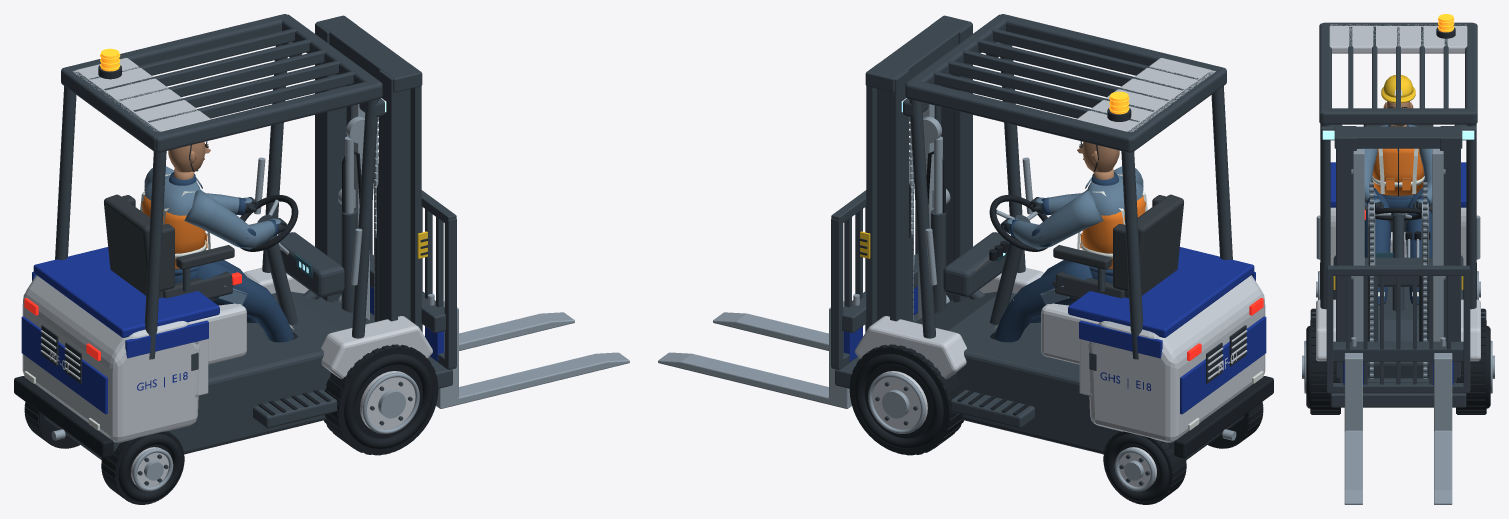
Rendered from manned_forklift.fbx.
3 views of the same model, side by side, from view 1: azimuth 30°, elevation 25°; view 2: azimuth 150°, elevation 25°; view 3: azimuth 270°, elevation 25° (orthographic). The views are drawn at different scales.
Parts seen in each view (by area): view 1: SM_GHN_MannedForklift; view 2: SM_GHN_MannedForklift; view 3: SM_GHN_MannedForklift.
Boxes of the visible parts, x1,y1,x2,y2 form: SM_GHN_MannedForklift: [14, 14, 629, 504]; SM_GHN_MannedForklift: [658, 14, 1273, 504]; SM_GHN_MannedForklift: [1302, 14, 1494, 504].
Size of the model in its own units: 343 by 130 by 234.
